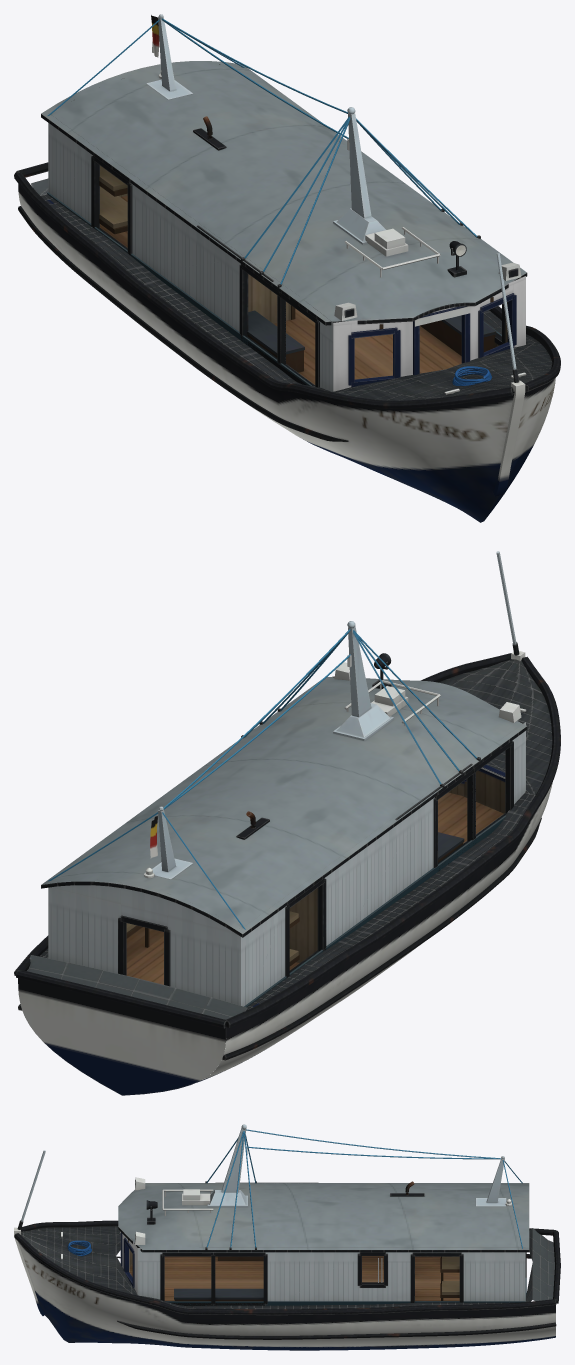
The model's file is luzeiro_novo_a.glb.
3 views of the same model, one above another, from view 1: azimuth 30°, elevation 25°; view 2: azimuth 150°, elevation 25°; view 3: azimuth 270°, elevation 25° (orthographic). The views are drawn at different scales.
Parts seen in each view (by area): view 1: Luzeiro; view 2: Luzeiro; view 3: Luzeiro.
Boxes of the visible parts, x1,y1,x2,y2 form: Luzeiro: [14, 14, 560, 522]; Luzeiro: [14, 551, 560, 1095]; Luzeiro: [14, 1124, 560, 1350].
Size of the model in its own units: 5.55 by 6.77 by 15.12.
Materials: 3 (3 with a texture image).
